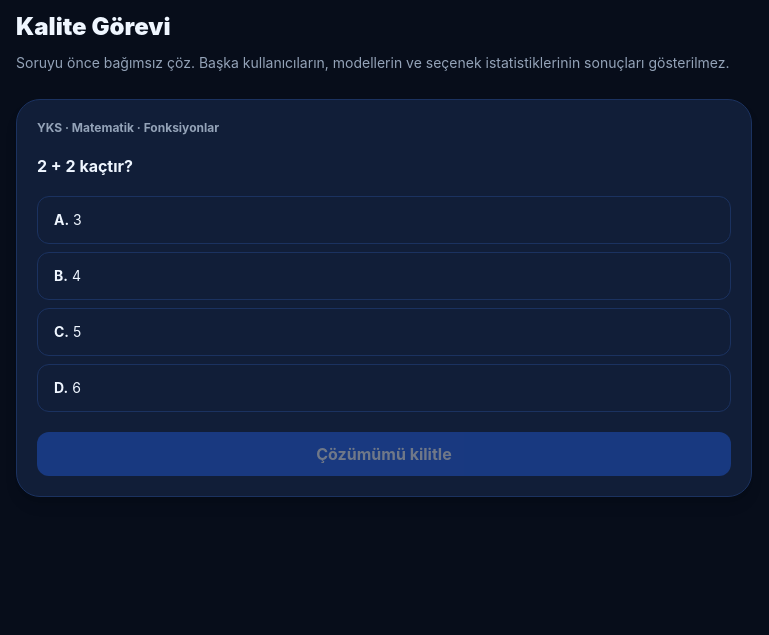
Test: QualityMissionsClient › unlocks the verdict step only after the server persists the selected answer
Click the button "B. 4": (59, 276) x1=37 y1=252 x2=731 y2=300
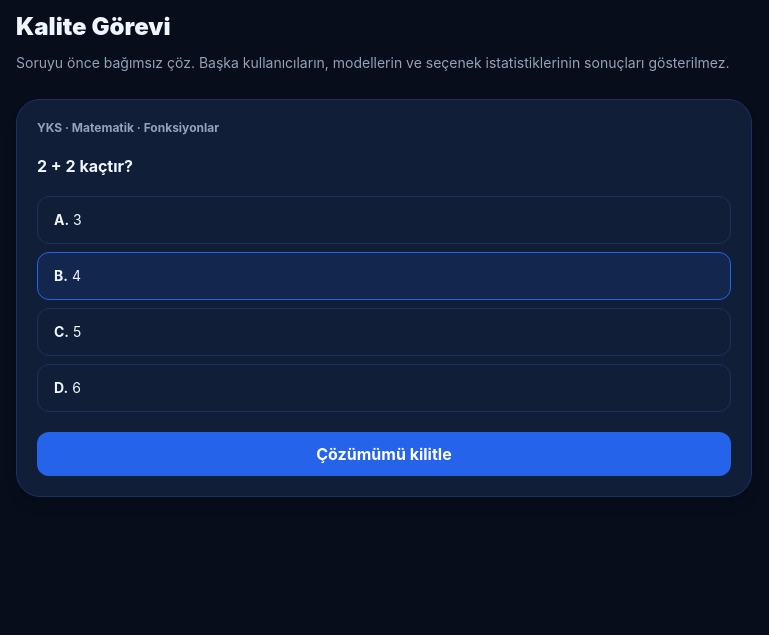
Click the button "Çözümümü kilitle": (384, 454) x1=37 y1=432 x2=731 y2=476
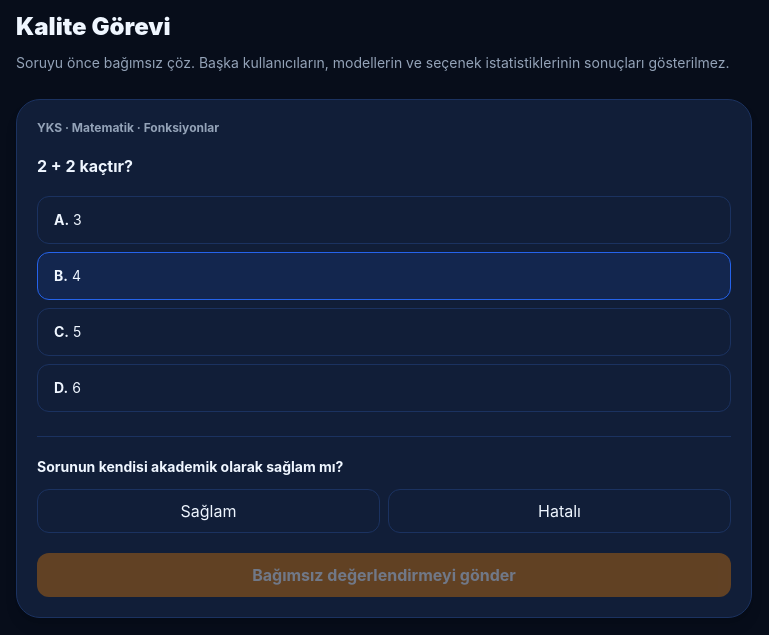
Result: the text "Sorunun kendisi akademik olarak sağlam mı?" is shown at x1=37 y1=457 x2=343 y2=477
